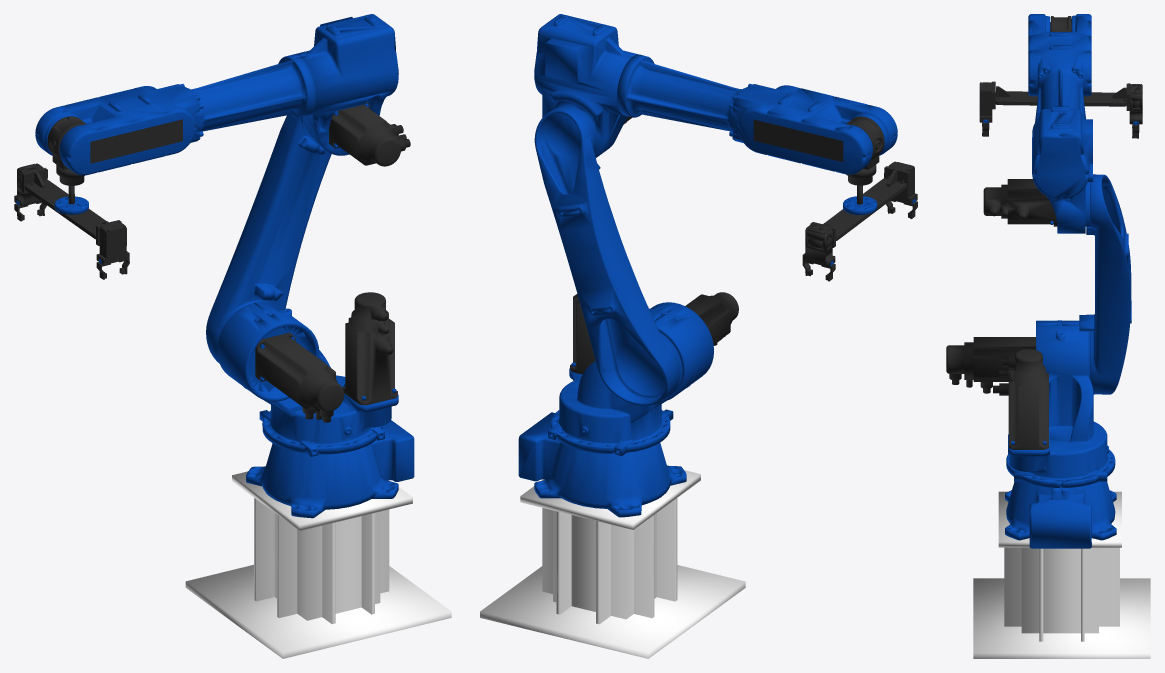
Rendered from jxb2.glb.
3 renders of one model, left to right at view 1: azimuth 30°, elevation 25°; view 2: azimuth 150°, elevation 25°; view 3: azimuth 270°, elevation 25°, orthographic. The views are drawn at different scales.
Parts seen in each view (by area): view 1: bottom, sole, fork, arm, arm-header, tong, pulley; view 2: bottom, arm, fork, sole, arm-header, tong, pulley; view 3: bottom, sole, arm-header, arm, fork, tong, pulley.
Boxes of the visible parts, x1,y1,x2,y2 form: bottom: (185, 420, 451, 658); sole: (217, 292, 398, 456); fork: (35, 54, 315, 175); arm: (206, 114, 331, 363); arm-header: (294, 14, 410, 166); tong: (14, 163, 129, 279); pulley: (47, 116, 85, 185); bottom: (480, 412, 745, 658); arm: (534, 106, 680, 405); fork: (617, 54, 897, 174); sole: (548, 292, 738, 456); arm-header: (534, 14, 638, 157); tong: (802, 161, 917, 281); pulley: (846, 116, 884, 185); bottom: (973, 481, 1150, 658); sole: (946, 320, 1115, 487); arm-header: (983, 106, 1092, 233); arm: (1079, 174, 1131, 394); fork: (1028, 14, 1091, 133); tong: (979, 81, 1142, 138); pulley: (1050, 16, 1071, 31).
Size of the model in its own units: 11.9 by 18.43 by 6.56.
